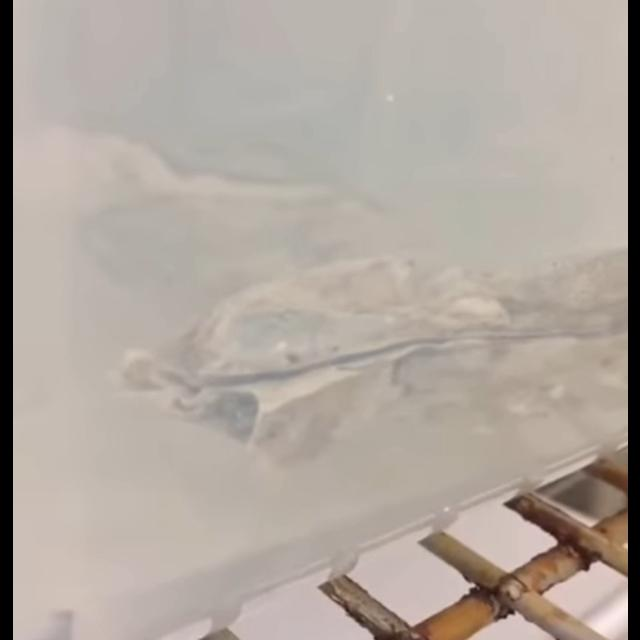Oyster-Closed: (114, 256, 628, 466)
Oyster-Indeterminate: (62, 115, 354, 249)
